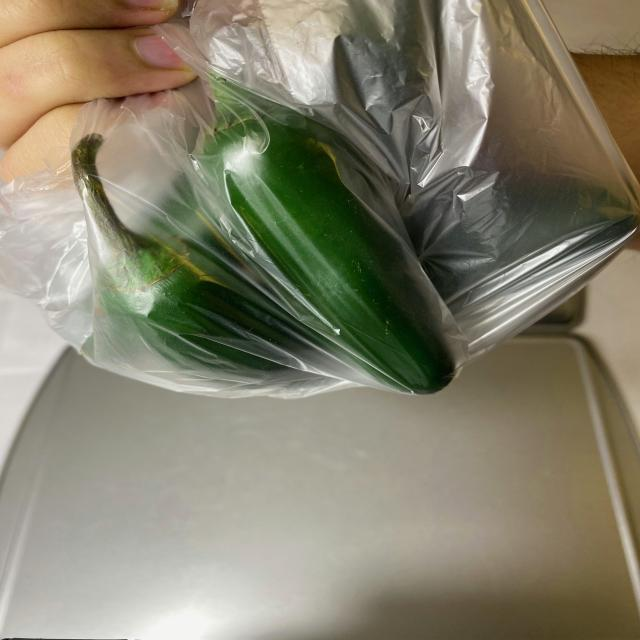chilli: (48, 41, 626, 408)
